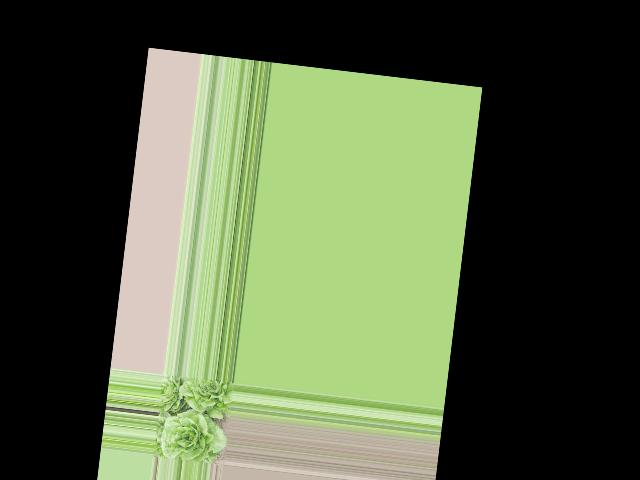lettuce: (176, 375, 232, 415)
